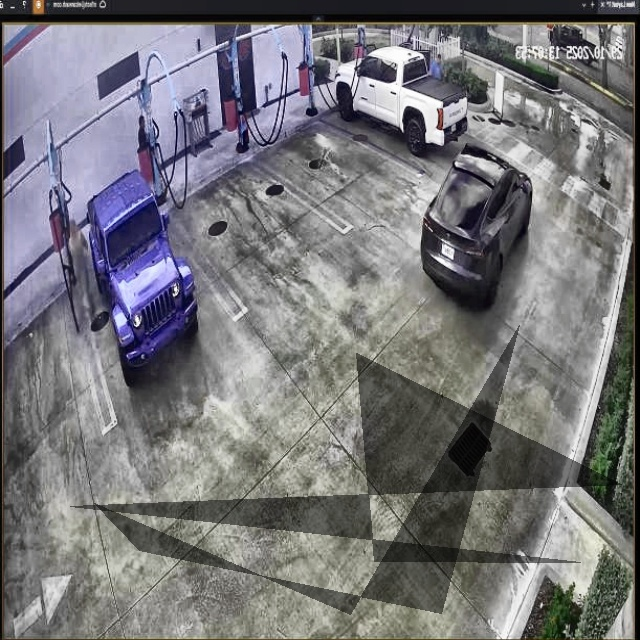Car: (86, 171, 196, 375), (420, 148, 533, 306)
